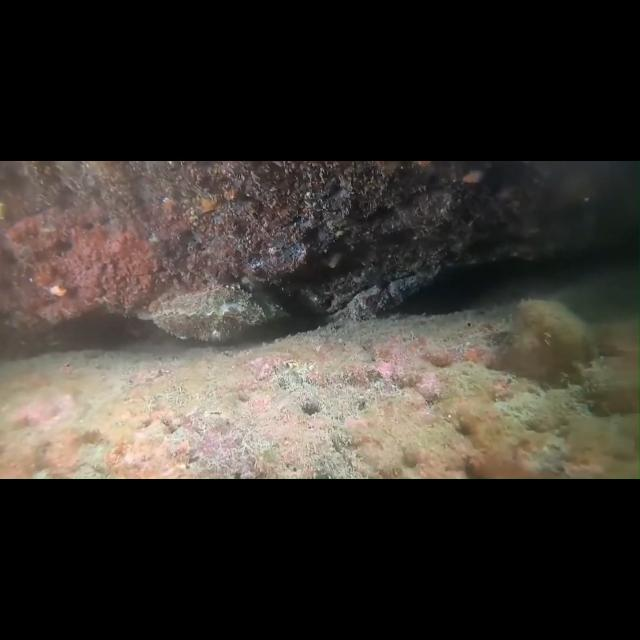Oyster-Closed: (149, 284, 285, 344)
